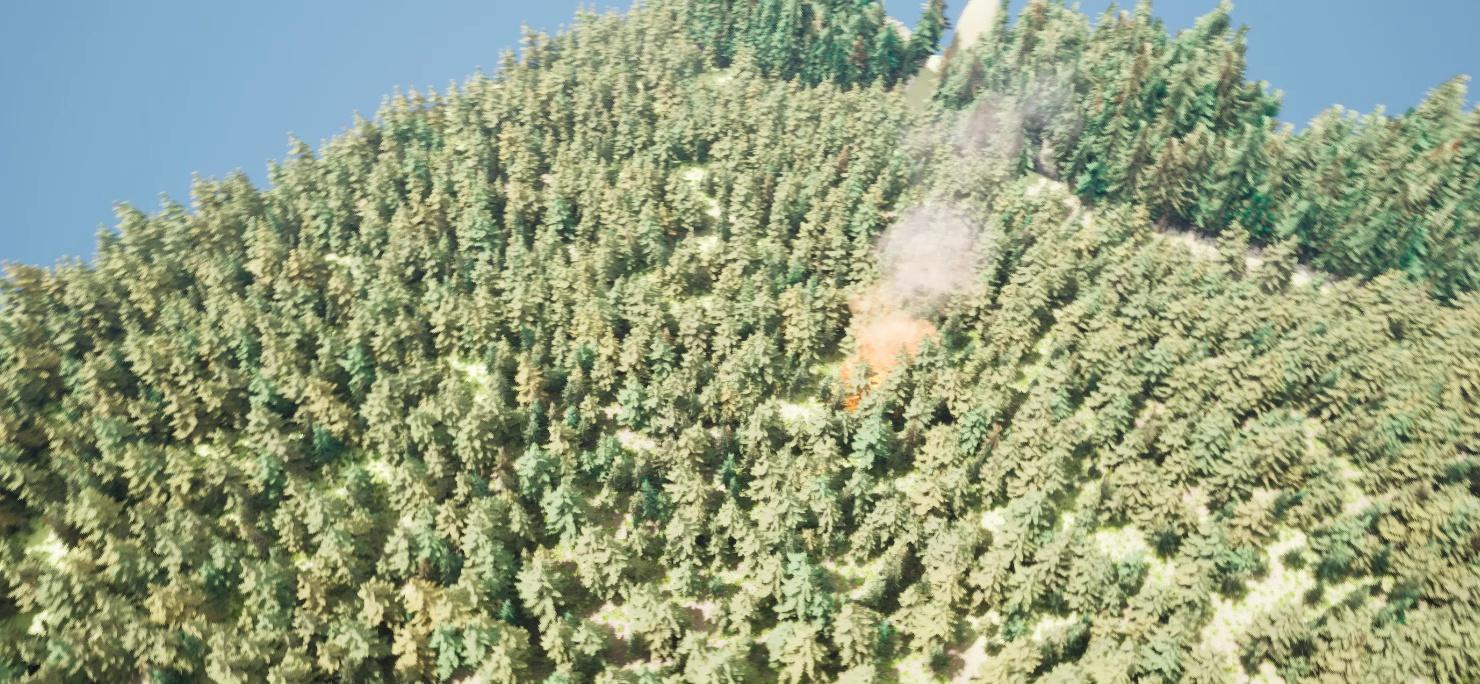smoke: (844, 81, 1075, 393)
